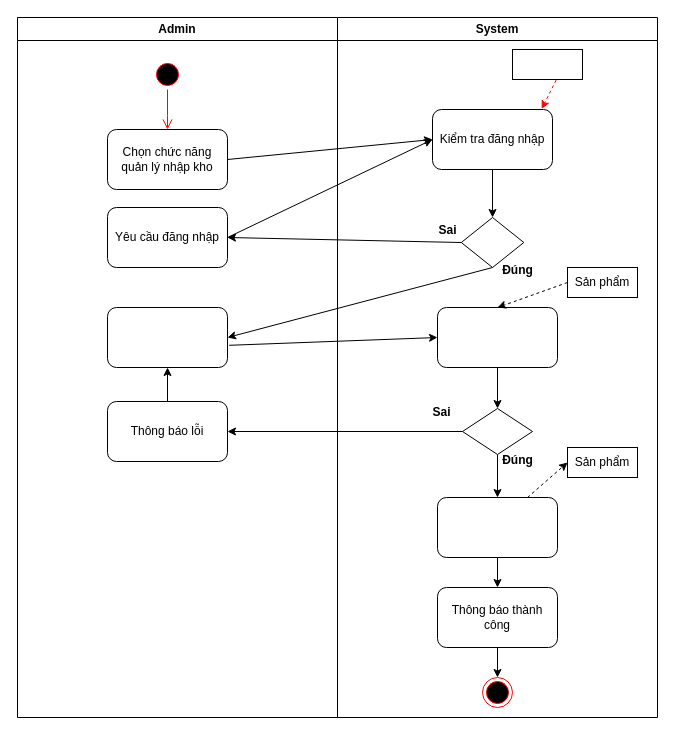
The diagram is 675 pixels wide and 735 high, and some of its shapes have lost their labels. Each missing label, with the centre of its shape:
"Kiểm tra thông tin" belongs at point 497,337.
"Nhập thông tin cần thiết của sản phầm cần nhập kho" belongs at point 167,337.
"Tài khoản" belongs at point 547,64.
"Xác nhận thêm sản phẩm, số lượng sản phẩm vào kho" belongs at point 497,527.
